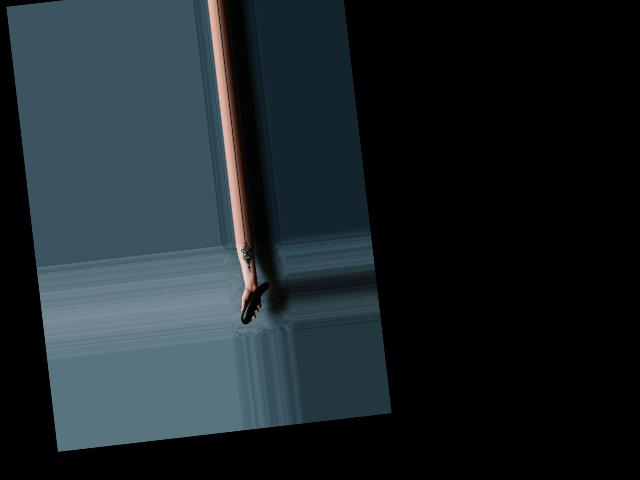cucumber: (237, 282, 273, 324)
